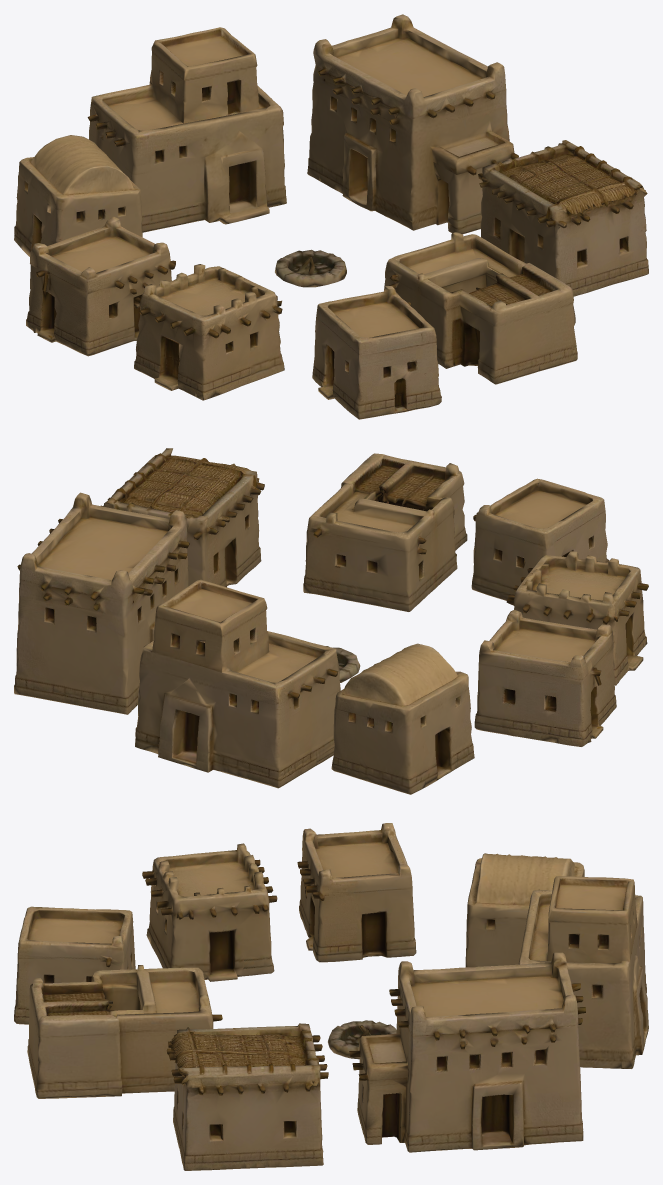
The model's file is Ancient Village (Middle Eastern).fbx.
3 renders of one model, top to bottom at view 1: azimuth 30°, elevation 25°; view 2: azimuth 150°, elevation 25°; view 3: azimuth 270°, elevation 25°, orthographic. The views are drawn at different scales.
Visible parts, largest first — view 1: tripo_node_cbacea8e; view 2: tripo_node_cbacea8e; view 3: tripo_node_cbacea8e.
Boxes of the visible parts, <box> form: tripo_node_cbacea8e: <box>14,14,648,419</box>; tripo_node_cbacea8e: <box>14,448,648,794</box>; tripo_node_cbacea8e: <box>14,823,648,1170</box>.
Size of the model in its own units: 0.9999 by 0.263 by 1.
